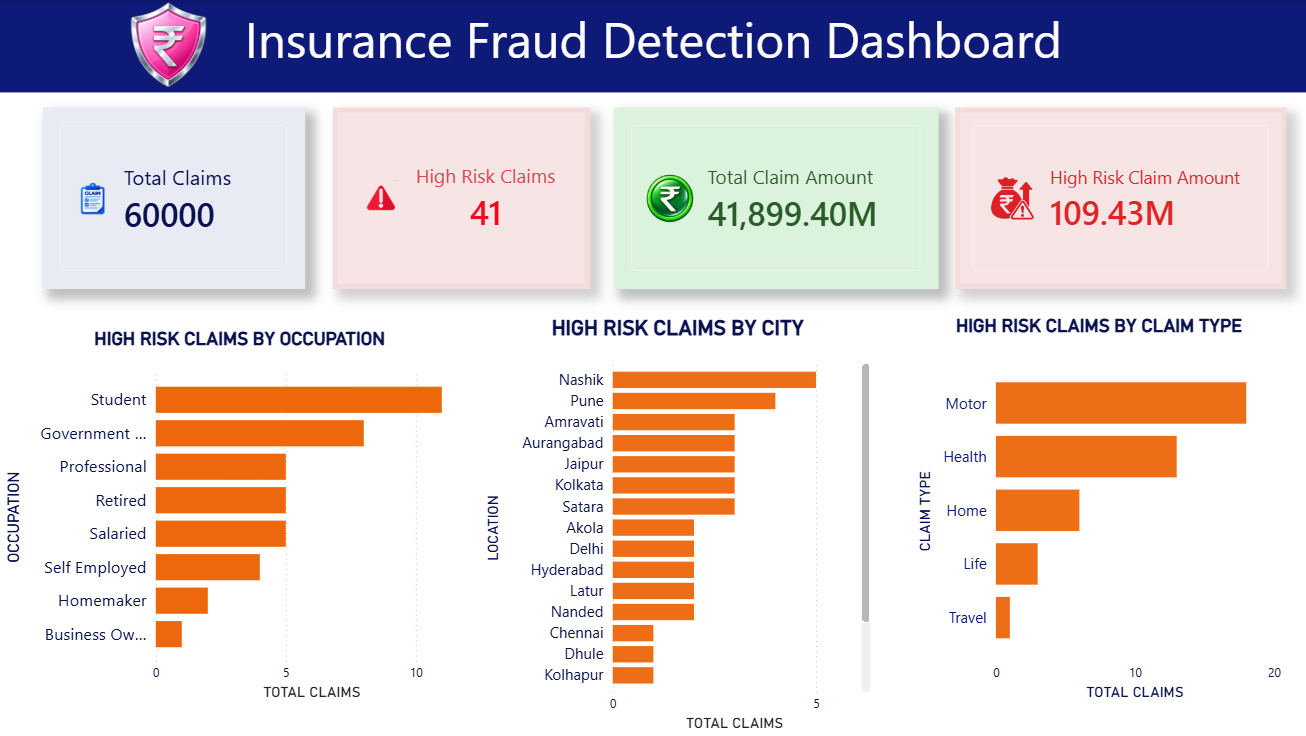

The page's visual inventory and layout, read from the dashboard file:
{"tool":"powerbi","page":{"name":"Dashboard","canvas":[1280,720],"ordinal":0},"visuals":[{"type":"textbox","box":[9.6,0,1270.7,90.6],"z":0},{"type":"image","box":[101.5,0,129,90.6],"z":1000},{"type":"cardVisual","fields":{"Data":["Count(high_risk_claims.claim_id)"]},"box":[326.5,105.2,251.9,177.3],"z":2000},{"type":"cardVisual","fields":{"Data":["Sum(clean_claims.claim_amount_inr)"]},"box":[601.6,105.2,317.9,177.3],"z":3000},{"type":"clusteredBarChart","title":" HIGH RISK CLAIMS BY CLAIM TYPE","fields":{"Y":["CountNonNull(high_risk_claims.claim_id)"],"Category":["high_risk_claims.claim_type"]},"box":[892.7,308.2,366.8,381.5],"z":4000},{"type":"clusteredBarChart","title":"HIGH RISK CLAIMS BY CITY","fields":{"Category":["high_risk_claims.location"],"Y":["CountNonNull(high_risk_claims.claim_id)"]},"box":[470.8,308.2,386.4,412.1],"z":5000},{"type":"clusteredBarChart","title":"HIGH RISK CLAIMS BY OCCUPATION","fields":{"Category":["high_risk_claims.occupation"],"Y":["CountNonNull(high_risk_claims.claim_id)"]},"box":[0,320.4,470.8,369.3],"z":6000},{"type":"cardVisual","fields":{"Data":["Count(clean_claims.claim_id)"]},"box":[42.8,105.2,256.8,177.3],"z":8000},{"type":"cardVisual","fields":{"Data":["clean_claims.High Risk Claim Amount"]},"box":[935.5,105.2,324.1,177.3],"z":8001}]}

Visuals, with their boxes in screenshot pixels (x1, y1, x2, y2), scaled from the page's 1280x720 canvas onto the 1306x736 screenshot:
textbox: rect(10, 0, 1305, 93)
image: rect(104, 0, 235, 93)
cardVisual - Count(high_risk_claims.claim_id): rect(333, 108, 590, 289)
cardVisual - Sum(clean_claims.claim_amount_inr): rect(614, 108, 938, 289)
" HIGH RISK CLAIMS BY CLAIM TYPE" clusteredBarChart: rect(911, 315, 1285, 705)
"HIGH RISK CLAIMS BY CITY" clusteredBarChart: rect(480, 315, 875, 735)
"HIGH RISK CLAIMS BY OCCUPATION" clusteredBarChart: rect(0, 328, 480, 705)
cardVisual - Count(clean_claims.claim_id): rect(44, 108, 306, 289)
cardVisual - clean_claims.High Risk Claim Amount: rect(955, 108, 1285, 289)
